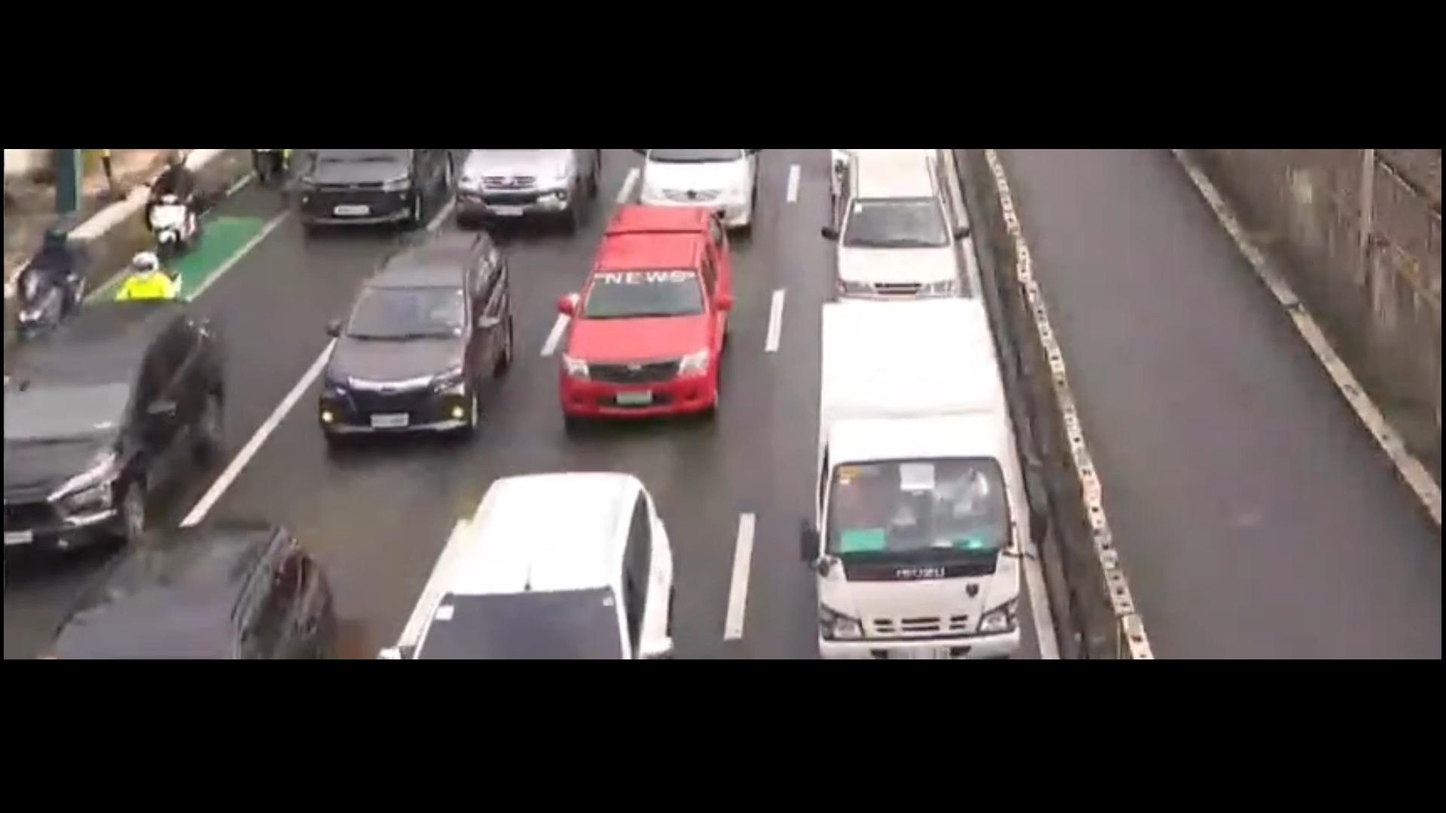Motorcycle: (0, 211, 96, 365), (140, 143, 206, 256), (117, 241, 200, 327)
SUV: (0, 294, 253, 557), (396, 448, 689, 655), (314, 219, 535, 467), (537, 207, 746, 446)
Truck: (808, 277, 1050, 663)
